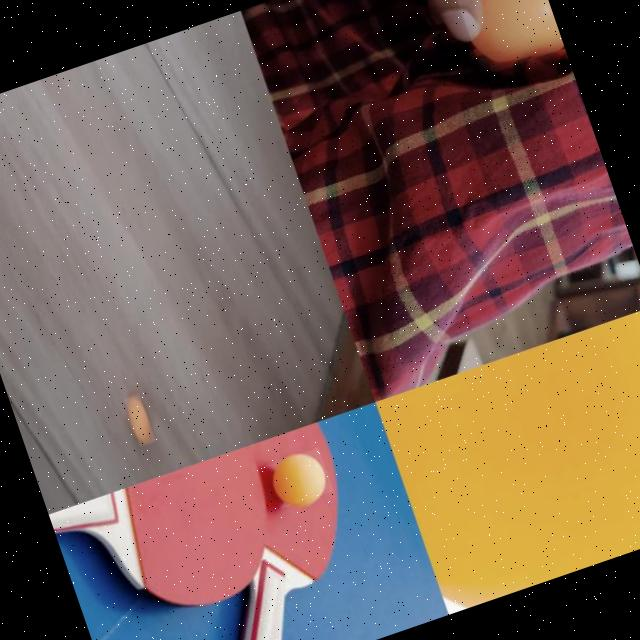ping-pong-ball: (376, 305, 640, 613), (443, 0, 564, 74), (264, 445, 334, 508), (123, 391, 155, 445)
